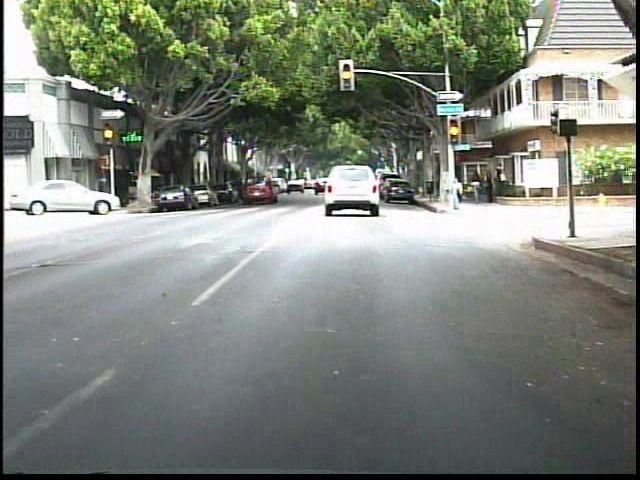person: (446, 174, 467, 212), (493, 160, 508, 196), (469, 169, 484, 204), (481, 167, 495, 204)
